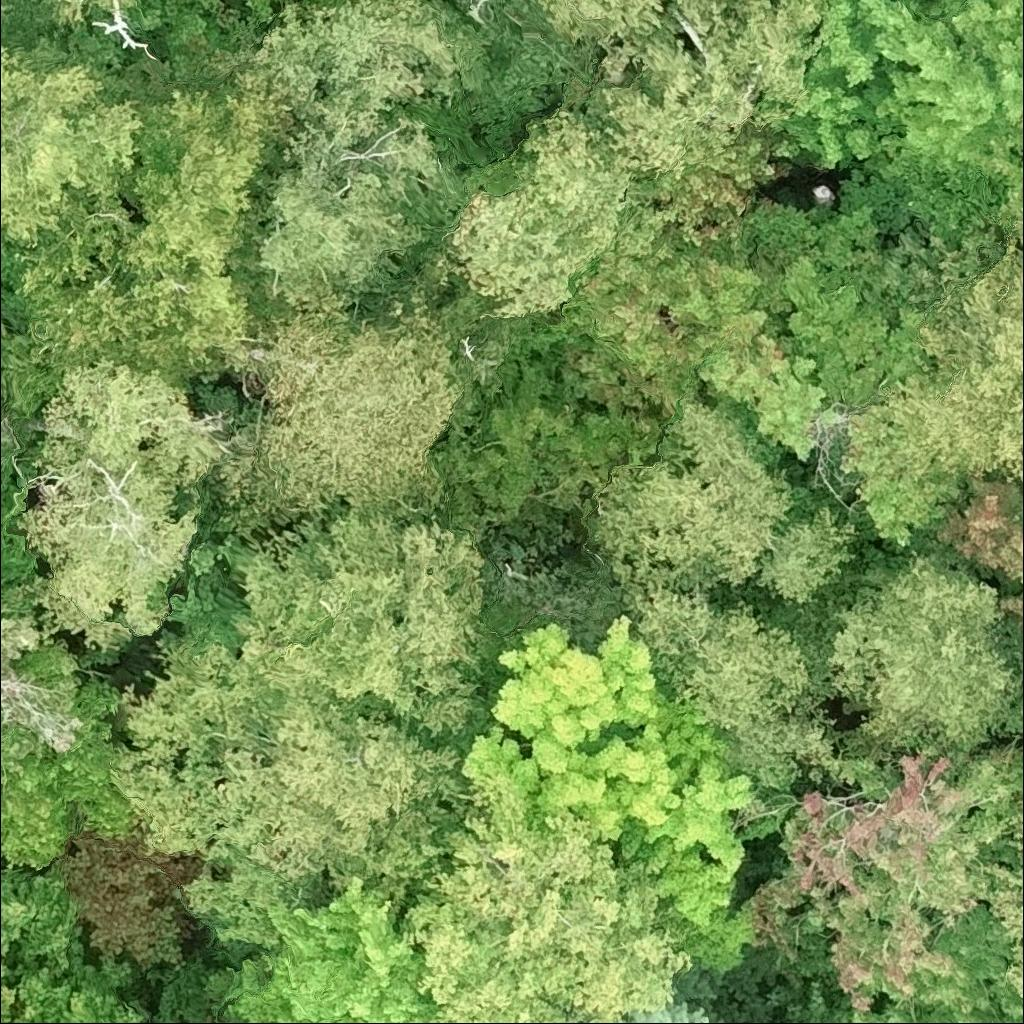crown: (459, 611, 819, 971), (581, 398, 884, 790), (112, 630, 466, 956), (398, 774, 694, 1023), (748, 745, 1023, 1012), (231, 509, 508, 744), (828, 549, 1023, 762), (203, 875, 428, 1023), (784, 903, 1023, 1023), (0, 676, 142, 873), (0, 526, 85, 750), (933, 480, 1023, 674), (10, 926, 154, 1023), (974, 792, 1023, 1013), (0, 863, 78, 975), (622, 962, 727, 1023), (0, 957, 15, 1023), (1017, 749, 1023, 792), (576, 1018, 586, 1023)
